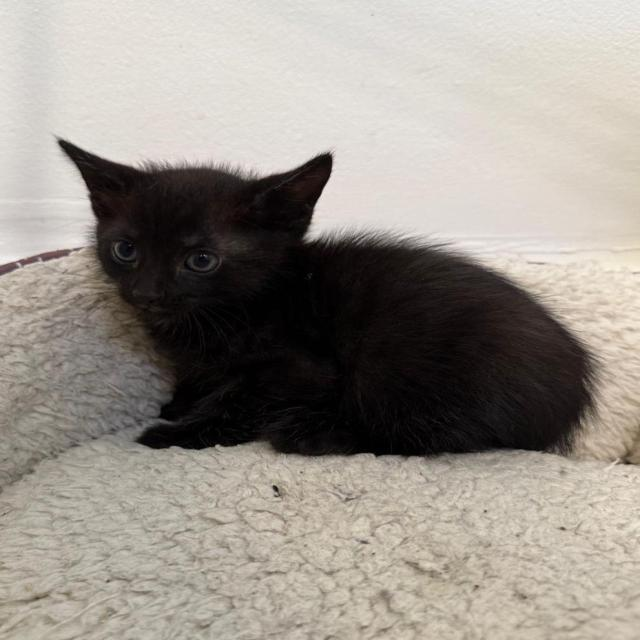manx_cat: (43, 128, 348, 346)
